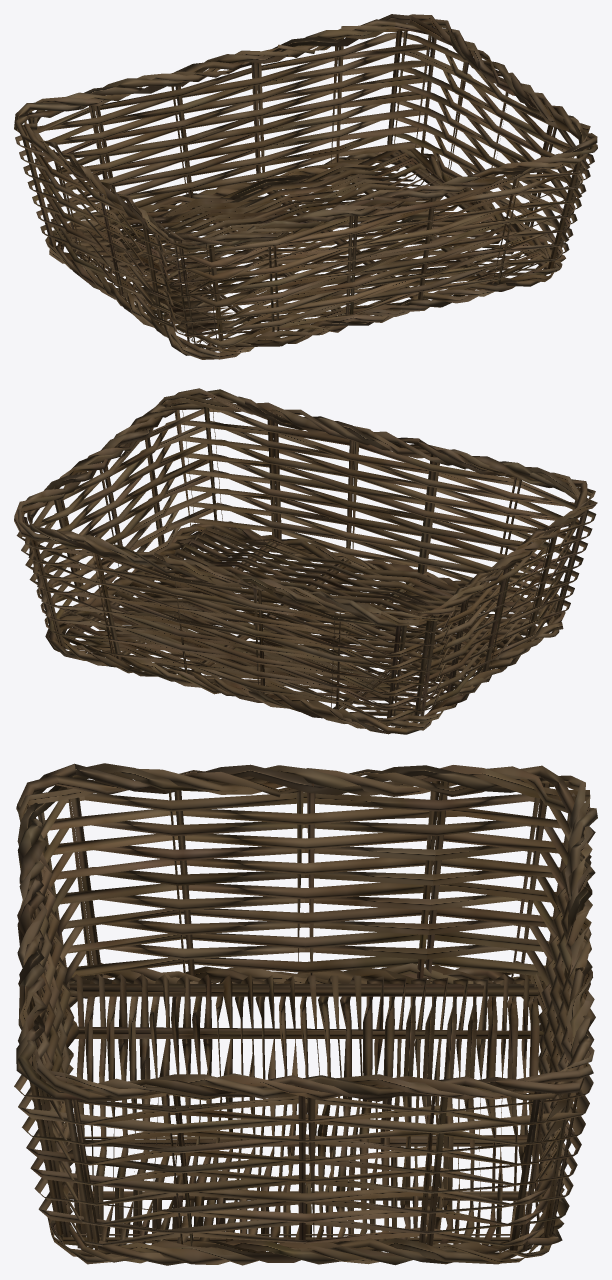
Rendered from basket.glb.
3 renders of one model, top to bottom at view 1: azimuth 30°, elevation 25°; view 2: azimuth 150°, elevation 25°; view 3: azimuth 270°, elevation 25°, orthographic. The views are drawn at different scales.
Parts seen in each view (by area): view 1: wicker_basket_01; view 2: wicker_basket_01; view 3: wicker_basket_01.
Part boxes in pixels (x1,y1,x2,y2): wicker_basket_01: (14,14,597,359); wicker_basket_01: (14,388,597,734); wicker_basket_01: (14,763,597,1265).
Bounding box in the file's own units: 0.383 × 0.1174 × 0.2939.
Materials: 1 (1 with a texture image).
